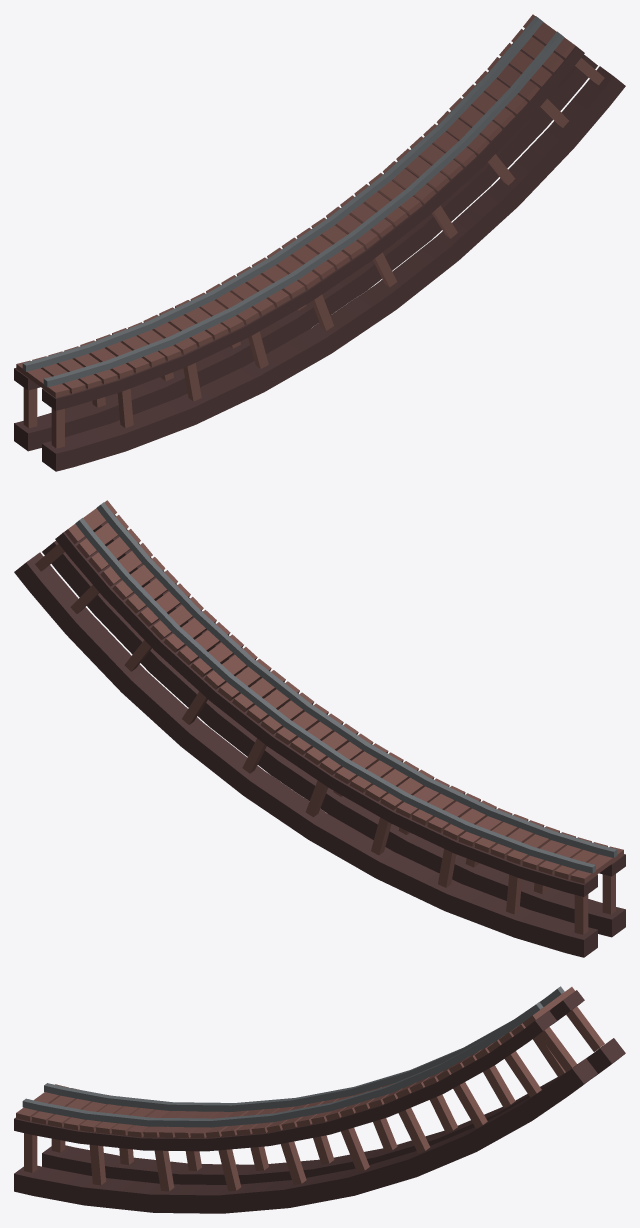
File: DarkRoseWoodMechGentle0_8545GaugeRise1.fbx
3 renders of one model, top to bottom at view 1: azimuth 30°, elevation 25°; view 2: azimuth 150°, elevation 25°; view 3: azimuth 330°, elevation 25°, orthographic.
Visible parts, largest first — view 1: DarkRoseWoodMechGentle0_8545GaugeRise1; view 2: DarkRoseWoodMechGentle0_8545GaugeRise1; view 3: DarkRoseWoodMechGentle0_8545GaugeRise1.
Part boxes in pixels (bbox=[...]): DarkRoseWoodMechGentle0_8545GaugeRise1: bbox=[14, 14, 625, 471]; DarkRoseWoodMechGentle0_8545GaugeRise1: bbox=[14, 500, 625, 957]; DarkRoseWoodMechGentle0_8545GaugeRise1: bbox=[14, 986, 625, 1213].
Bounding box in the file's own units: 1568 × 805 × 200.
